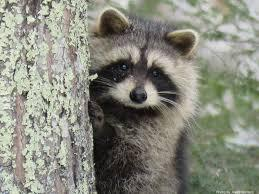raccoon: (68, 0, 225, 194)
